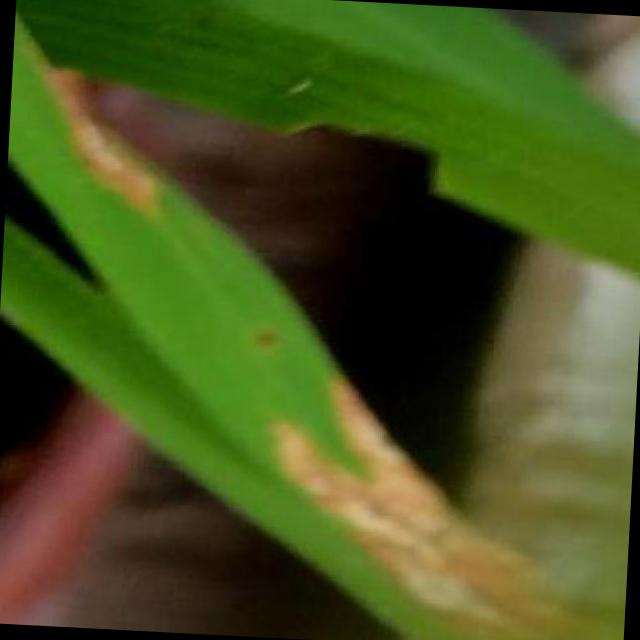Rice_Blast: (239, 314, 529, 621), (39, 62, 203, 226)
